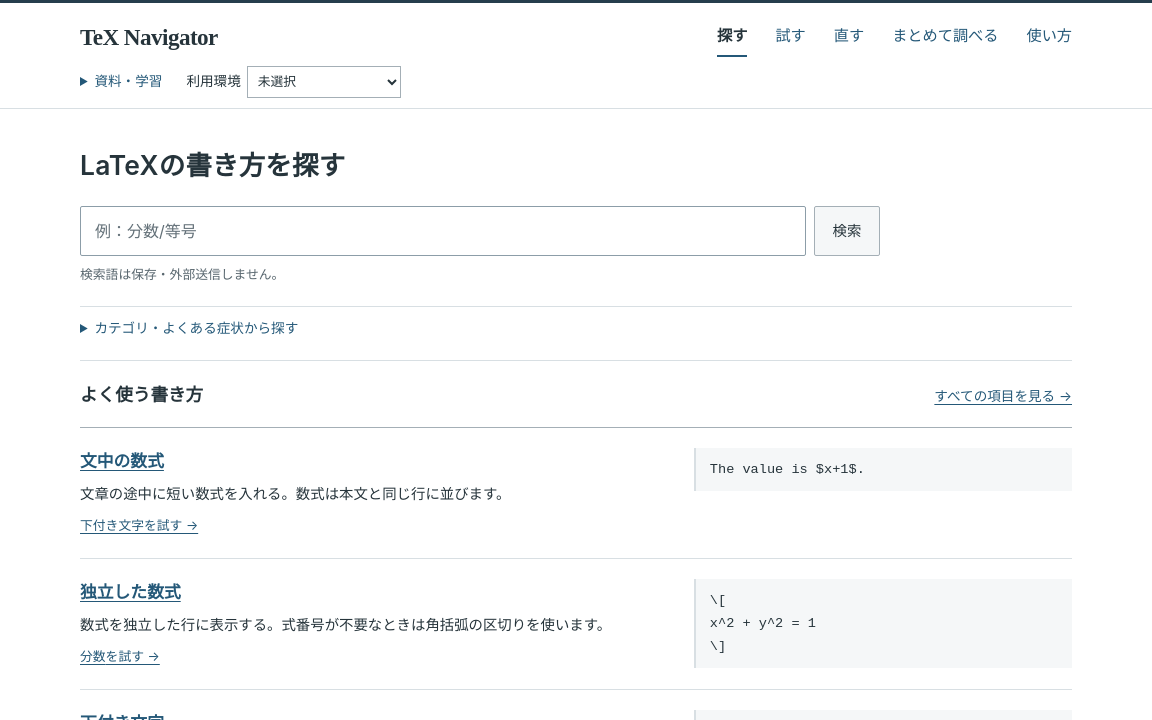
Test case: 検索語を保ったまま種類を切り替え、試せる例へ直接進む
Type "分数" into the search field at x=443, y=230, box [80,206,806,256]
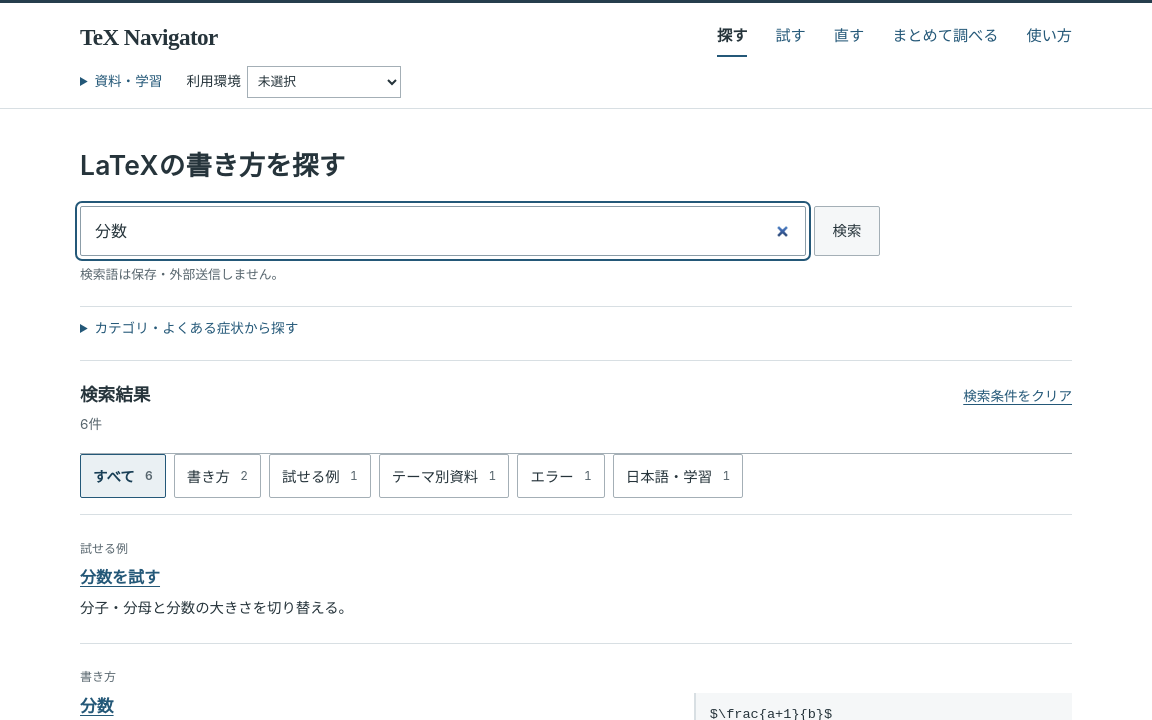
Expected: the link "分数" is shown, [80,696,114,716]
Expected: the link "分数を試す" is shown, [80,567,160,587]
Click the button "試せる例 1" at x=320, y=476, box [269,454,371,498]
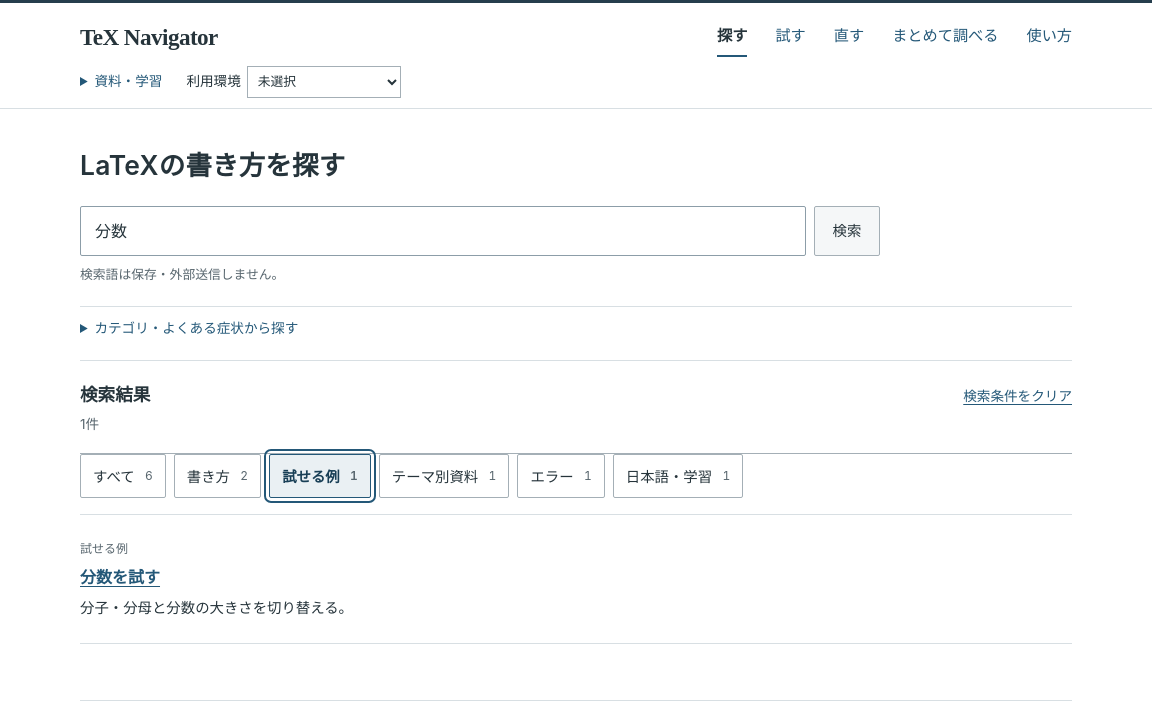
Click the link "分数を試す" at x=120, y=577, box [80,567,160,587]
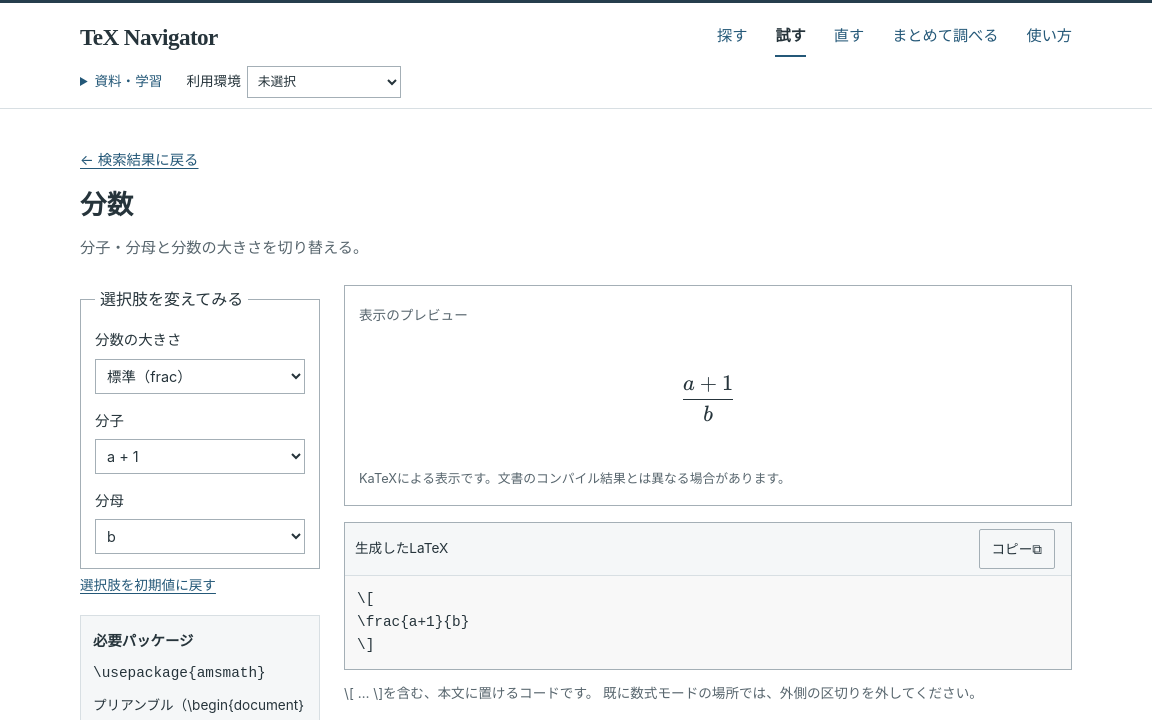
Expected: the element named "生成したLaTeX" shows "\\frac", [357,591,469,653]
Click the link "← 検索結果に戻る" at x=139, y=159, box [80,147,198,172]
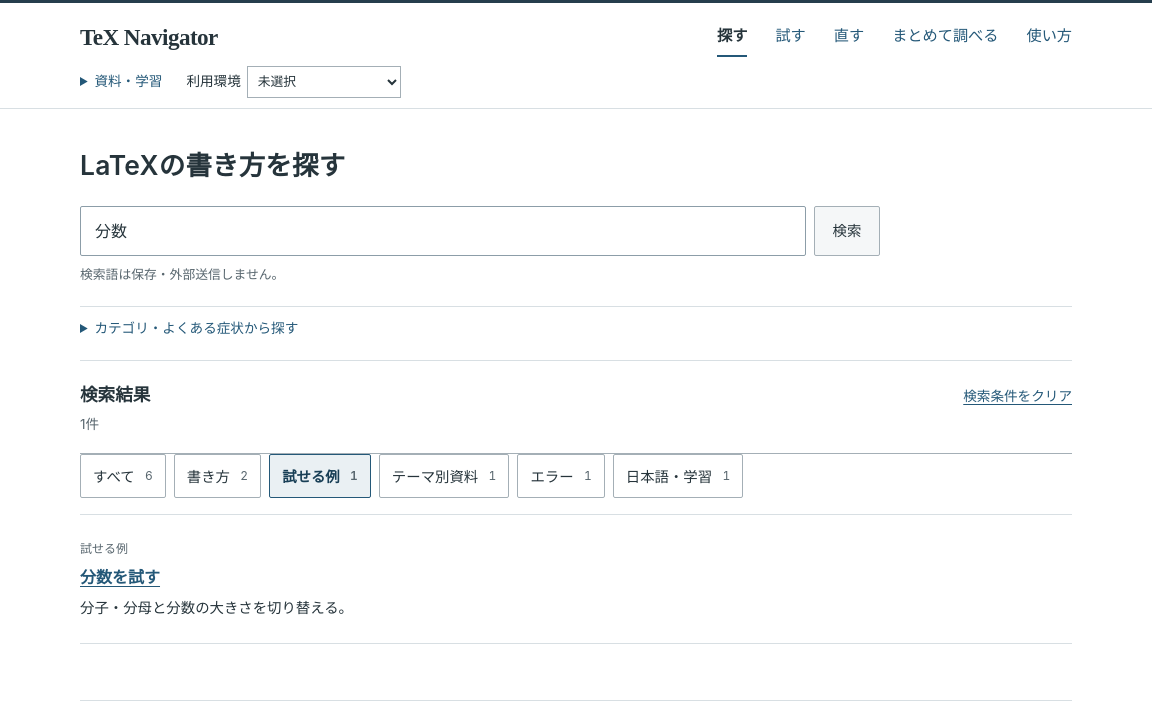
Expected: the search field holds "分数", [80,206,806,256]
